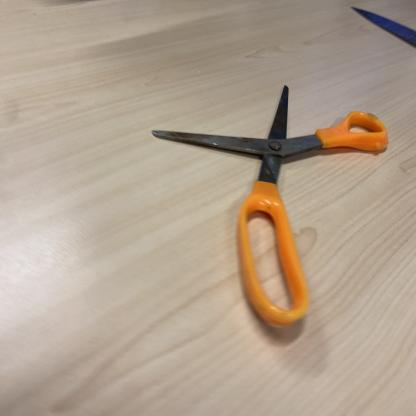Knife: (345, 2, 416, 59)
scissors: (153, 86, 388, 342)
